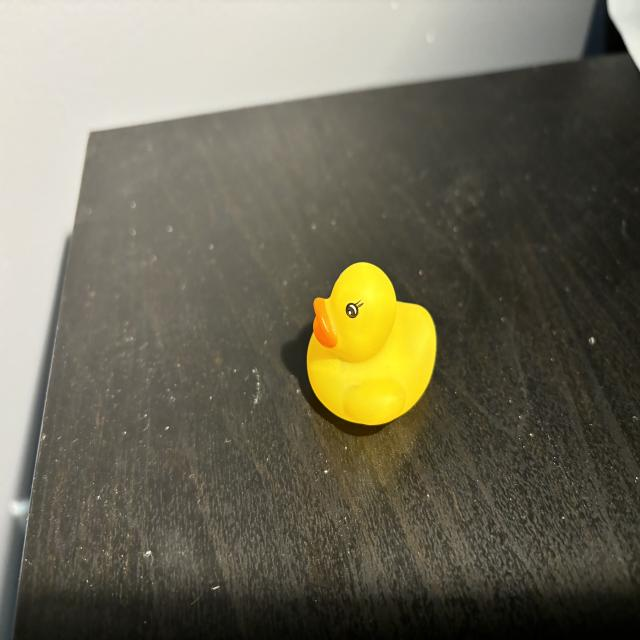duck_regular: (308, 263, 438, 426)
